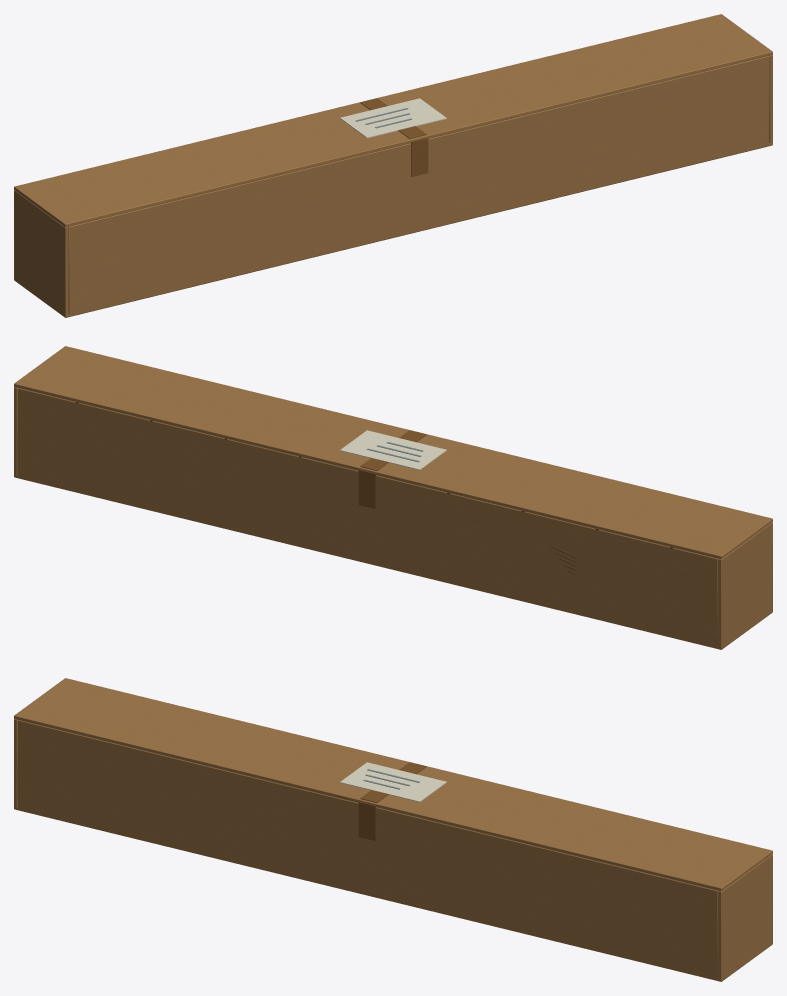
Rendered from DeliveryBoxLong.gltf.
3 views of the same model, one above another, from view 1: azimuth 30°, elevation 25°; view 2: azimuth 150°, elevation 25°; view 3: azimuth 330°, elevation 25° (orthographic).
Visible parts, largest first — view 1: DeliveryBoxLong__Body, DeliveryBoxLong__Lid; view 2: DeliveryBoxLong__Body, DeliveryBoxLong__Lid; view 3: DeliveryBoxLong__Body, DeliveryBoxLong__Lid.
Part boxes in pixels (x1,y1,x2,y2): DeliveryBoxLong__Body: (14, 55, 772, 317); DeliveryBoxLong__Lid: (14, 14, 772, 227); DeliveryBoxLong__Body: (14, 387, 772, 649); DeliveryBoxLong__Lid: (14, 346, 772, 559); DeliveryBoxLong__Body: (14, 719, 772, 981); DeliveryBoxLong__Lid: (14, 678, 772, 891).
Bounding box in the file's own units: 1.74 × 0.224 × 0.224.
1 material, 1 textured.
